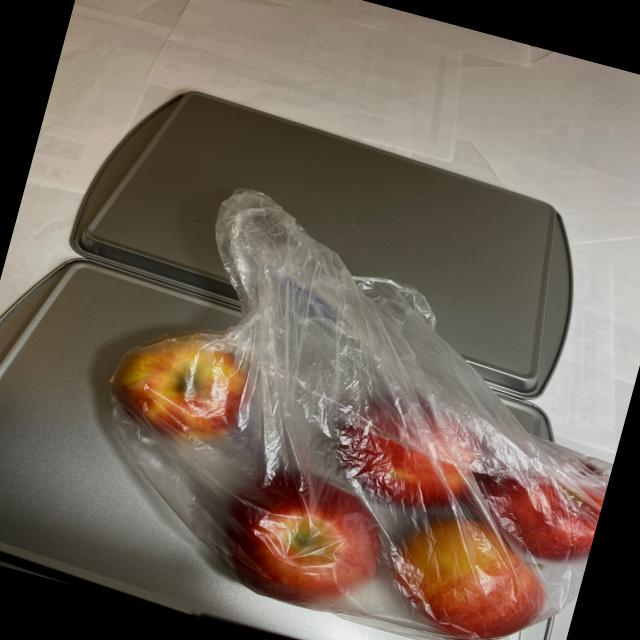apple: (60, 266, 630, 640)
